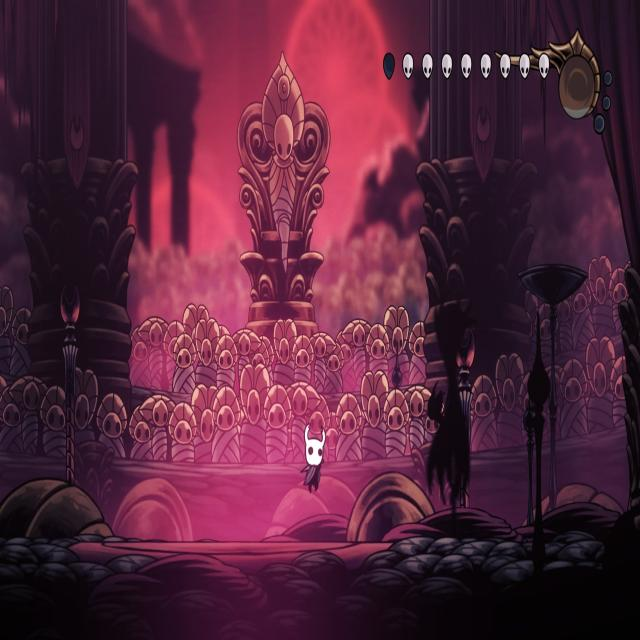Player: (301, 417, 327, 500)
